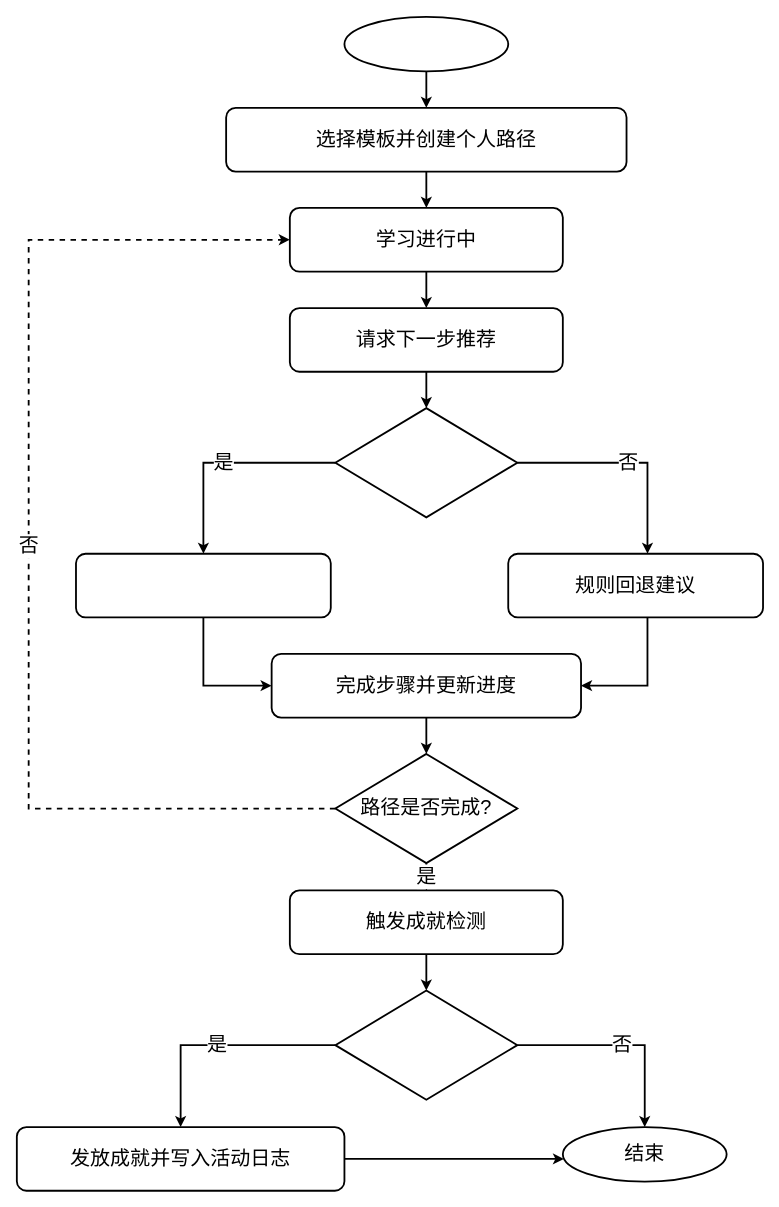
Image size: 779x1207. Some labels were removed from this diagram. The centre of each missing label's shape, as x and y in pixels:
AI 推荐可用?: [426,462]
开始: [426,43]
满足成就条件?: [426,1044]
生成个性化建议: [203,585]
